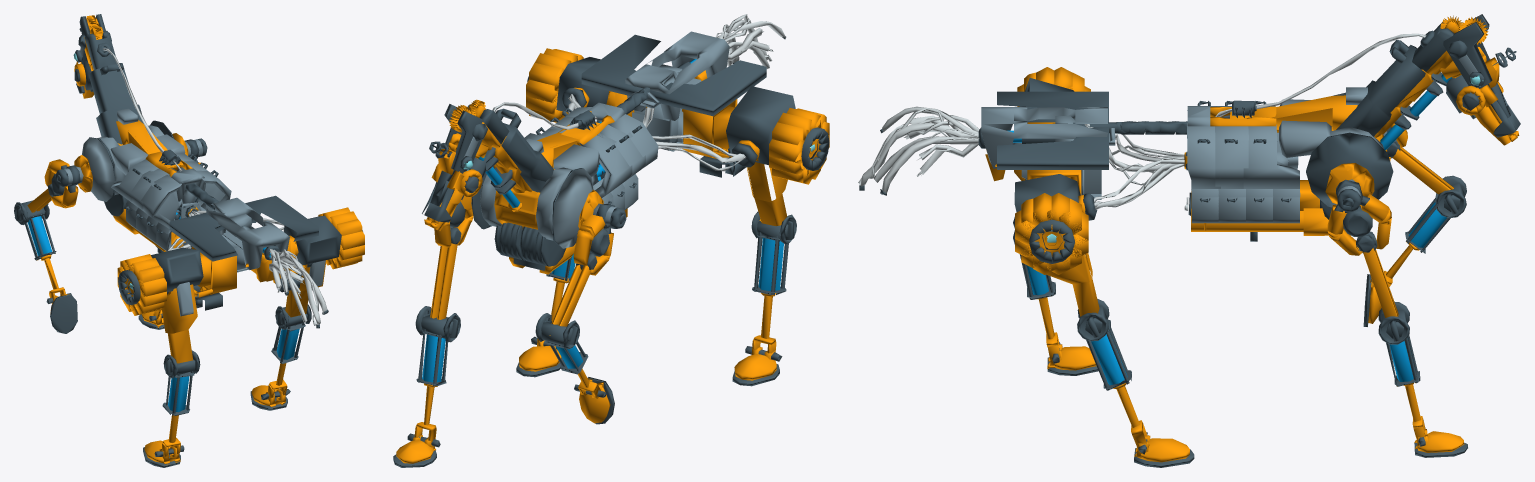
File: strider.glb
3 renders of one model, left to right at view 1: azimuth 30°, elevation 25°; view 2: azimuth 150°, elevation 25°; view 3: azimuth 270°, elevation 25°, orthographic. The views are drawn at different scales.
Parts seen in each view (by area): view 1: group622540491; view 2: group622540491; view 3: group622540491.
Boxes of the visible parts, x1,y1,x2,y2 form: group622540491: [14, 14, 364, 467]; group622540491: [393, 14, 829, 467]; group622540491: [858, 14, 1520, 467].
Size of the model in its own units: 3.3 by 4.29 by 6.38.
1 material, 1 textured.
